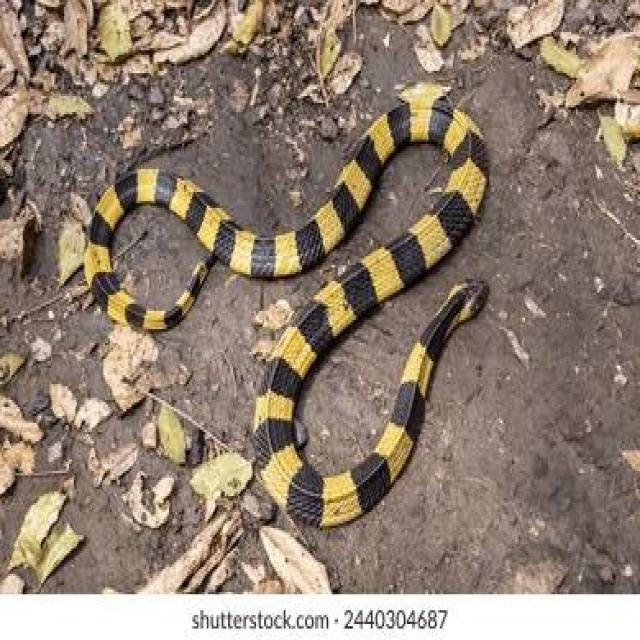Venomous: (398, 266, 494, 382)
